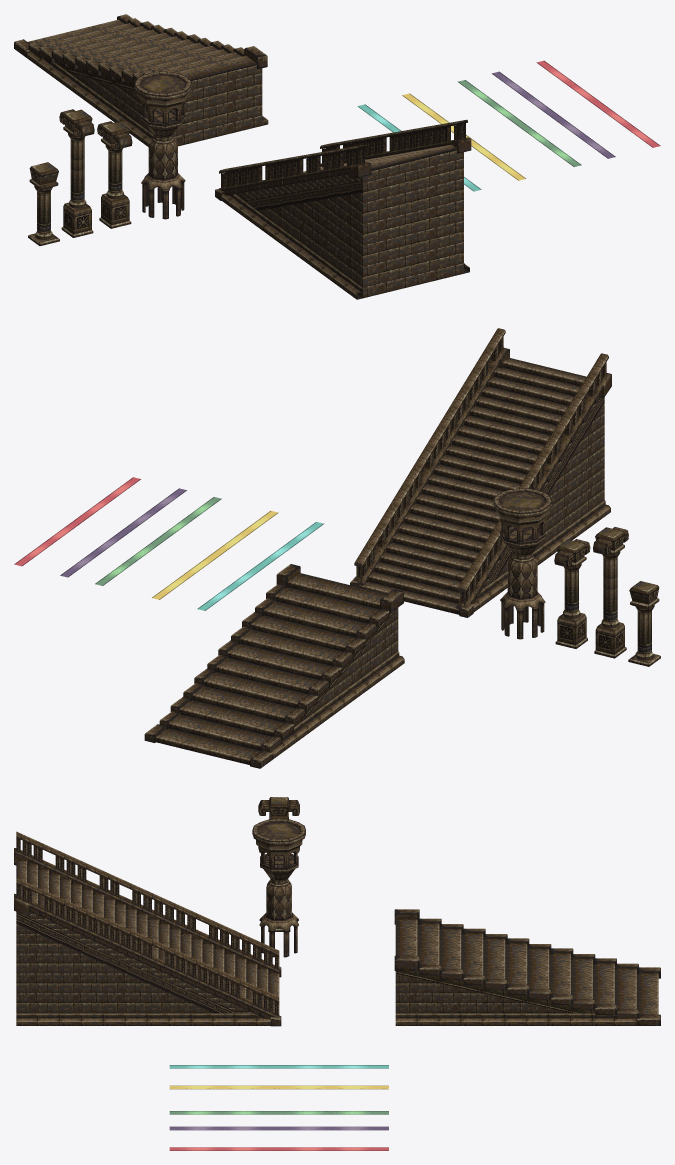
The model's file is EnvMdrMD_Ruins_D_Pillar_A.FBX.
3 views of the same model, one above another, from view 1: azimuth 30°, elevation 25°; view 2: azimuth 150°, elevation 25°; view 3: azimuth 270°, elevation 25° (orthographic). The views are drawn at different scales.
Visible parts, largest first — view 1: EnvMdrMD_Ruins_D_Stairs_Spline_B, EnvMdrMD_Ruins_D_Stairs_Spline_A, EnvMdrMD_Ruins_D_Pillar_B_End_A, EnvMdrMD_Ruins_D_Pillar_A, EnvMdrMD_Ruins_D_Pillar_B, EnvMdrMD_Ruins_D_Pillar_C, EnvMdrMD_Ruins_D_Tape_Spline_C, EnvMdrMD_Ruins_D_Tape_Spline_A, EnvMdrMD_Ruins_D_Tape_Spline_D, EnvMdrMD_Ruins_D_Tape_Spline_B, EnvMdrMD_Ruins_D_Tape_Spline_E; view 2: EnvMdrMD_Ruins_D_Stairs_Spline_B, EnvMdrMD_Ruins_D_Stairs_Spline_A, EnvMdrMD_Ruins_D_Pillar_B_End_A, EnvMdrMD_Ruins_D_Pillar_A, EnvMdrMD_Ruins_D_Pillar_B, EnvMdrMD_Ruins_D_Pillar_C, EnvMdrMD_Ruins_D_Tape_Spline_B, EnvMdrMD_Ruins_D_Tape_Spline_C, EnvMdrMD_Ruins_D_Tape_Spline_D, EnvMdrMD_Ruins_D_Tape_Spline_E, EnvMdrMD_Ruins_D_Tape_Spline_A; view 3: EnvMdrMD_Ruins_D_Stairs_Spline_B, EnvMdrMD_Ruins_D_Stairs_Spline_A, EnvMdrMD_Ruins_D_Pillar_B_End_A, EnvMdrMD_Ruins_D_Tape_Spline_B, EnvMdrMD_Ruins_D_Tape_Spline_D, EnvMdrMD_Ruins_D_Tape_Spline_A, EnvMdrMD_Ruins_D_Tape_Spline_C, EnvMdrMD_Ruins_D_Tape_Spline_E, EnvMdrMD_Ruins_D_Pillar_A.
Boxes of the visible parts, x1,y1,x2,y2 form: EnvMdrMD_Ruins_D_Stairs_Spline_B: (215, 119, 471, 299); EnvMdrMD_Ruins_D_Stairs_Spline_A: (14, 14, 268, 146); EnvMdrMD_Ruins_D_Pillar_B_End_A: (134, 71, 192, 219); EnvMdrMD_Ruins_D_Pillar_A: (59, 109, 94, 237); EnvMdrMD_Ruins_D_Pillar_B: (97, 121, 132, 228); EnvMdrMD_Ruins_D_Pillar_C: (28, 162, 59, 245); EnvMdrMD_Ruins_D_Tape_Spline_C: (457, 80, 581, 166); EnvMdrMD_Ruins_D_Tape_Spline_A: (536, 60, 660, 147); EnvMdrMD_Ruins_D_Tape_Spline_D: (491, 71, 615, 158); EnvMdrMD_Ruins_D_Tape_Spline_B: (402, 93, 525, 180); EnvMdrMD_Ruins_D_Tape_Spline_E: (357, 104, 481, 191); EnvMdrMD_Ruins_D_Stairs_Spline_B: (350, 328, 611, 617); EnvMdrMD_Ruins_D_Stairs_Spline_A: (144, 564, 404, 768); EnvMdrMD_Ruins_D_Pillar_B_End_A: (493, 488, 552, 639); EnvMdrMD_Ruins_D_Pillar_A: (593, 527, 628, 658); EnvMdrMD_Ruins_D_Pillar_B: (554, 539, 590, 648); EnvMdrMD_Ruins_D_Pillar_C: (628, 581, 660, 666); EnvMdrMD_Ruins_D_Tape_Spline_B: (152, 511, 278, 599); EnvMdrMD_Ruins_D_Tape_Spline_C: (95, 497, 221, 585); EnvMdrMD_Ruins_D_Tape_Spline_D: (60, 488, 186, 577); EnvMdrMD_Ruins_D_Tape_Spline_E: (197, 522, 324, 610); EnvMdrMD_Ruins_D_Tape_Spline_A: (14, 477, 140, 566); EnvMdrMD_Ruins_D_Stairs_Spline_B: (14, 831, 281, 1026); EnvMdrMD_Ruins_D_Stairs_Spline_A: (394, 909, 660, 1025); EnvMdrMD_Ruins_D_Pillar_B_End_A: (252, 818, 305, 957); EnvMdrMD_Ruins_D_Tape_Spline_B: (169, 1085, 388, 1089); EnvMdrMD_Ruins_D_Tape_Spline_D: (169, 1126, 388, 1130); EnvMdrMD_Ruins_D_Tape_Spline_A: (169, 1147, 388, 1150); EnvMdrMD_Ruins_D_Tape_Spline_C: (169, 1111, 388, 1114); EnvMdrMD_Ruins_D_Tape_Spline_E: (169, 1065, 388, 1068); EnvMdrMD_Ruins_D_Pillar_A: (258, 797, 299, 819).
Size of the model in its own units: 2815 by 725 by 2951.
Materials: 2 (2 with a texture image).
